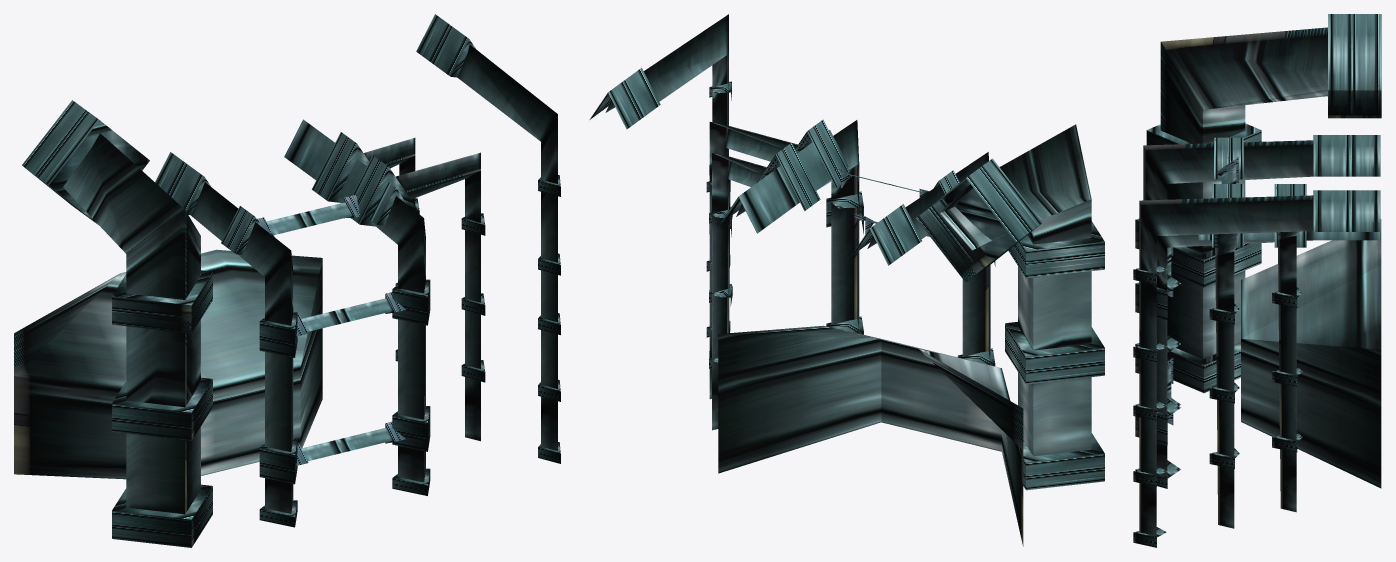
The model's file is Rohr_Eckanlage_1077.glb.
3 views of the same model, side by side, from view 1: azimuth 30°, elevation 25°; view 2: azimuth 150°, elevation 25°; view 3: azimuth 270°, elevation 25° (orthographic).
Visible parts, largest first — view 1: pPlaneShape56, pCylinderShape191, pCylinderShape254, pCylinderShape219, pCylinderShape228, pCylinderShape263, pCylinderShape189, pCylinderShape195, pCylinderShape190, pCylinderShape194, pCylinderShape226, pCylinderShape253 (+12 smaller); view 2: pPlaneShape56, pCylinderShape191, pCylinderShape189, pCylinderShape228, pCylinderShape270, pCylinderShape254, pCylinderShape194, pCylinderShape219, pCylinderShape226, pCylinderShape190, pCylinderShape195, pCylinderShape263 (+5 smaller); view 3: pPlaneShape56, pCylinderShape191, pCylinderShape254, pCylinderShape219, pCylinderShape189, pCylinderShape263, pCylinderShape270, pCylinderShape217, pCylinderShape253, pCylinderShape228, pCylinderShape194, pCylinderShape195 (+18 smaller).
Boxes of the visible parts, x1,y1,x2,y2 form: pPlaneShape56: (14, 249, 322, 479); pCylinderShape191: (63, 133, 200, 514); pCylinderShape254: (457, 44, 557, 450); pCylinderShape219: (190, 182, 293, 513); pCylinderShape228: (375, 196, 425, 482); pCylinderShape263: (396, 152, 480, 441); pCylinderShape189: (22, 100, 149, 225); pCylinderShape195: (112, 484, 212, 547); pCylinderShape190: (112, 270, 212, 333); pCylinderShape194: (112, 377, 212, 440); pCylinderShape226: (284, 119, 407, 225); pCylinderShape253: (416, 14, 476, 77); pPlaneShape56: (718, 325, 1023, 546); pCylinderShape191: (940, 124, 1091, 456); pCylinderShape189: (916, 158, 1042, 282); pCylinderShape228: (736, 120, 859, 333); pCylinderShape270: (712, 153, 774, 430); pCylinderShape254: (605, 14, 728, 156); pCylinderShape194: (1005, 322, 1104, 384); pCylinderShape219: (867, 152, 990, 365); pCylinderShape226: (720, 130, 848, 233); pCylinderShape190: (1008, 221, 1104, 278); pCylinderShape195: (1023, 433, 1104, 490); pCylinderShape263: (709, 122, 805, 398); pPlaneShape56: (1241, 219, 1381, 488); pCylinderShape191: (1160, 27, 1327, 359); pCylinderShape254: (1139, 195, 1313, 535); pCylinderShape219: (1143, 140, 1313, 200); pCylinderShape189: (1328, 14, 1381, 118); pCylinderShape263: (1214, 233, 1237, 528); pCylinderShape270: (1277, 231, 1297, 512); pCylinderShape217: (1313, 135, 1380, 176); pCylinderShape253: (1313, 190, 1380, 231); pCylinderShape228: (1156, 235, 1312, 475); pCylinderShape194: (1171, 243, 1261, 287); pCylinderShape195: (1167, 343, 1240, 392).
Size of the model in its own units: 0.9561 by 0.7496 by 0.4745.
43 materials, 43 textured.
